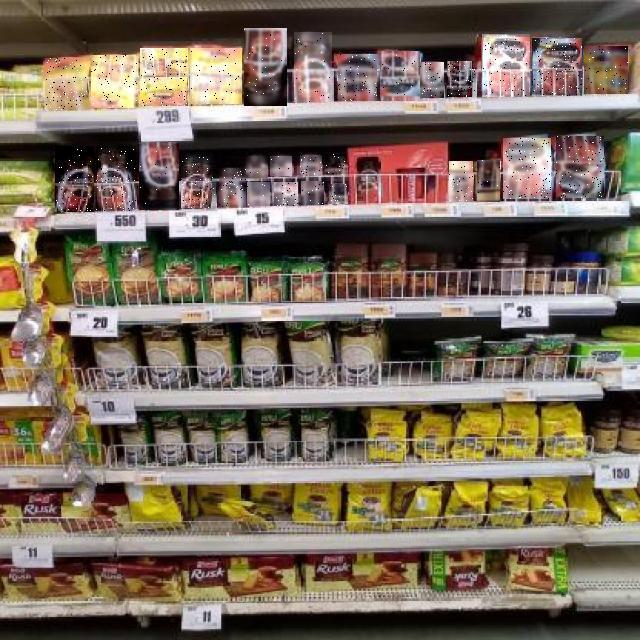Coffee: (244, 28, 287, 106), (482, 34, 530, 97), (556, 136, 604, 198), (503, 138, 551, 199), (190, 48, 242, 104), (532, 38, 582, 96), (141, 48, 189, 106), (139, 142, 179, 210), (294, 32, 332, 102), (96, 146, 136, 211), (55, 146, 94, 212), (92, 55, 138, 108), (45, 58, 87, 110), (584, 46, 628, 94), (380, 52, 420, 100), (182, 155, 216, 209), (338, 54, 377, 101), (219, 168, 246, 207), (448, 61, 476, 97), (449, 161, 473, 202), (477, 160, 500, 202), (421, 62, 445, 98), (274, 182, 298, 206), (301, 181, 324, 205), (247, 183, 270, 207), (246, 156, 268, 178), (325, 154, 347, 174), (300, 156, 322, 176), (270, 156, 292, 176), (329, 184, 348, 204)
